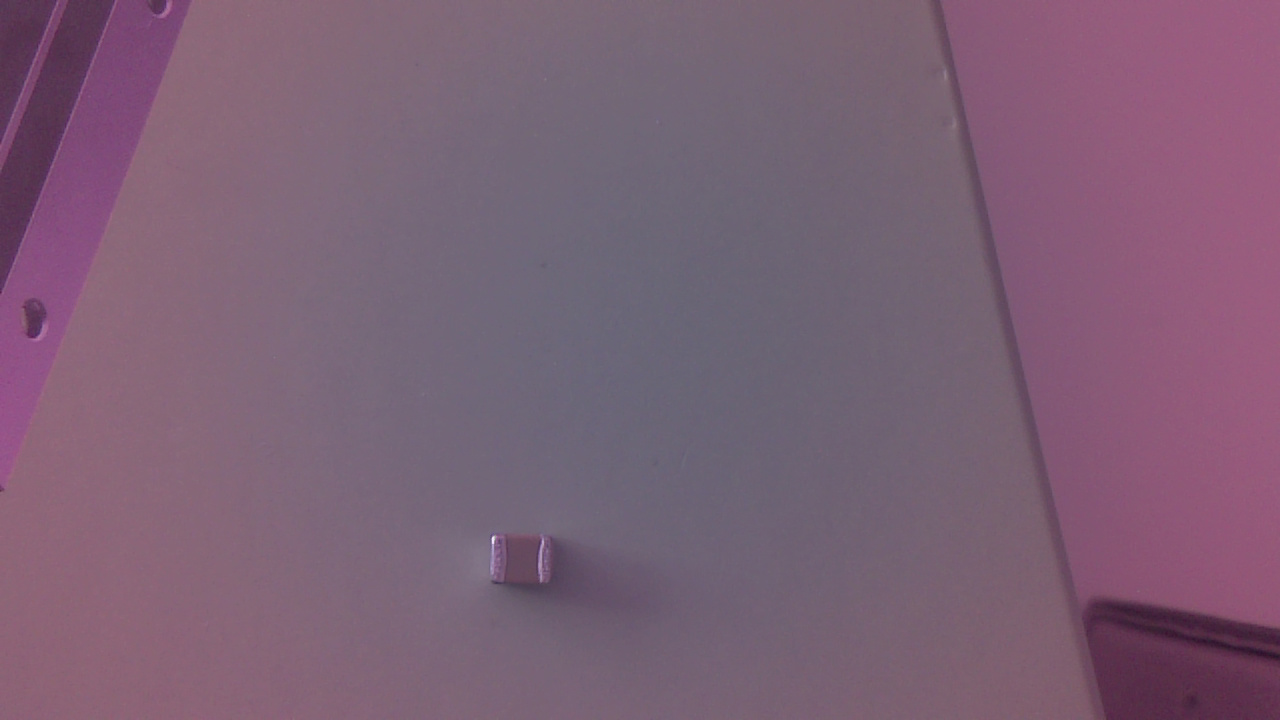Condensator: (483, 531, 565, 600)
